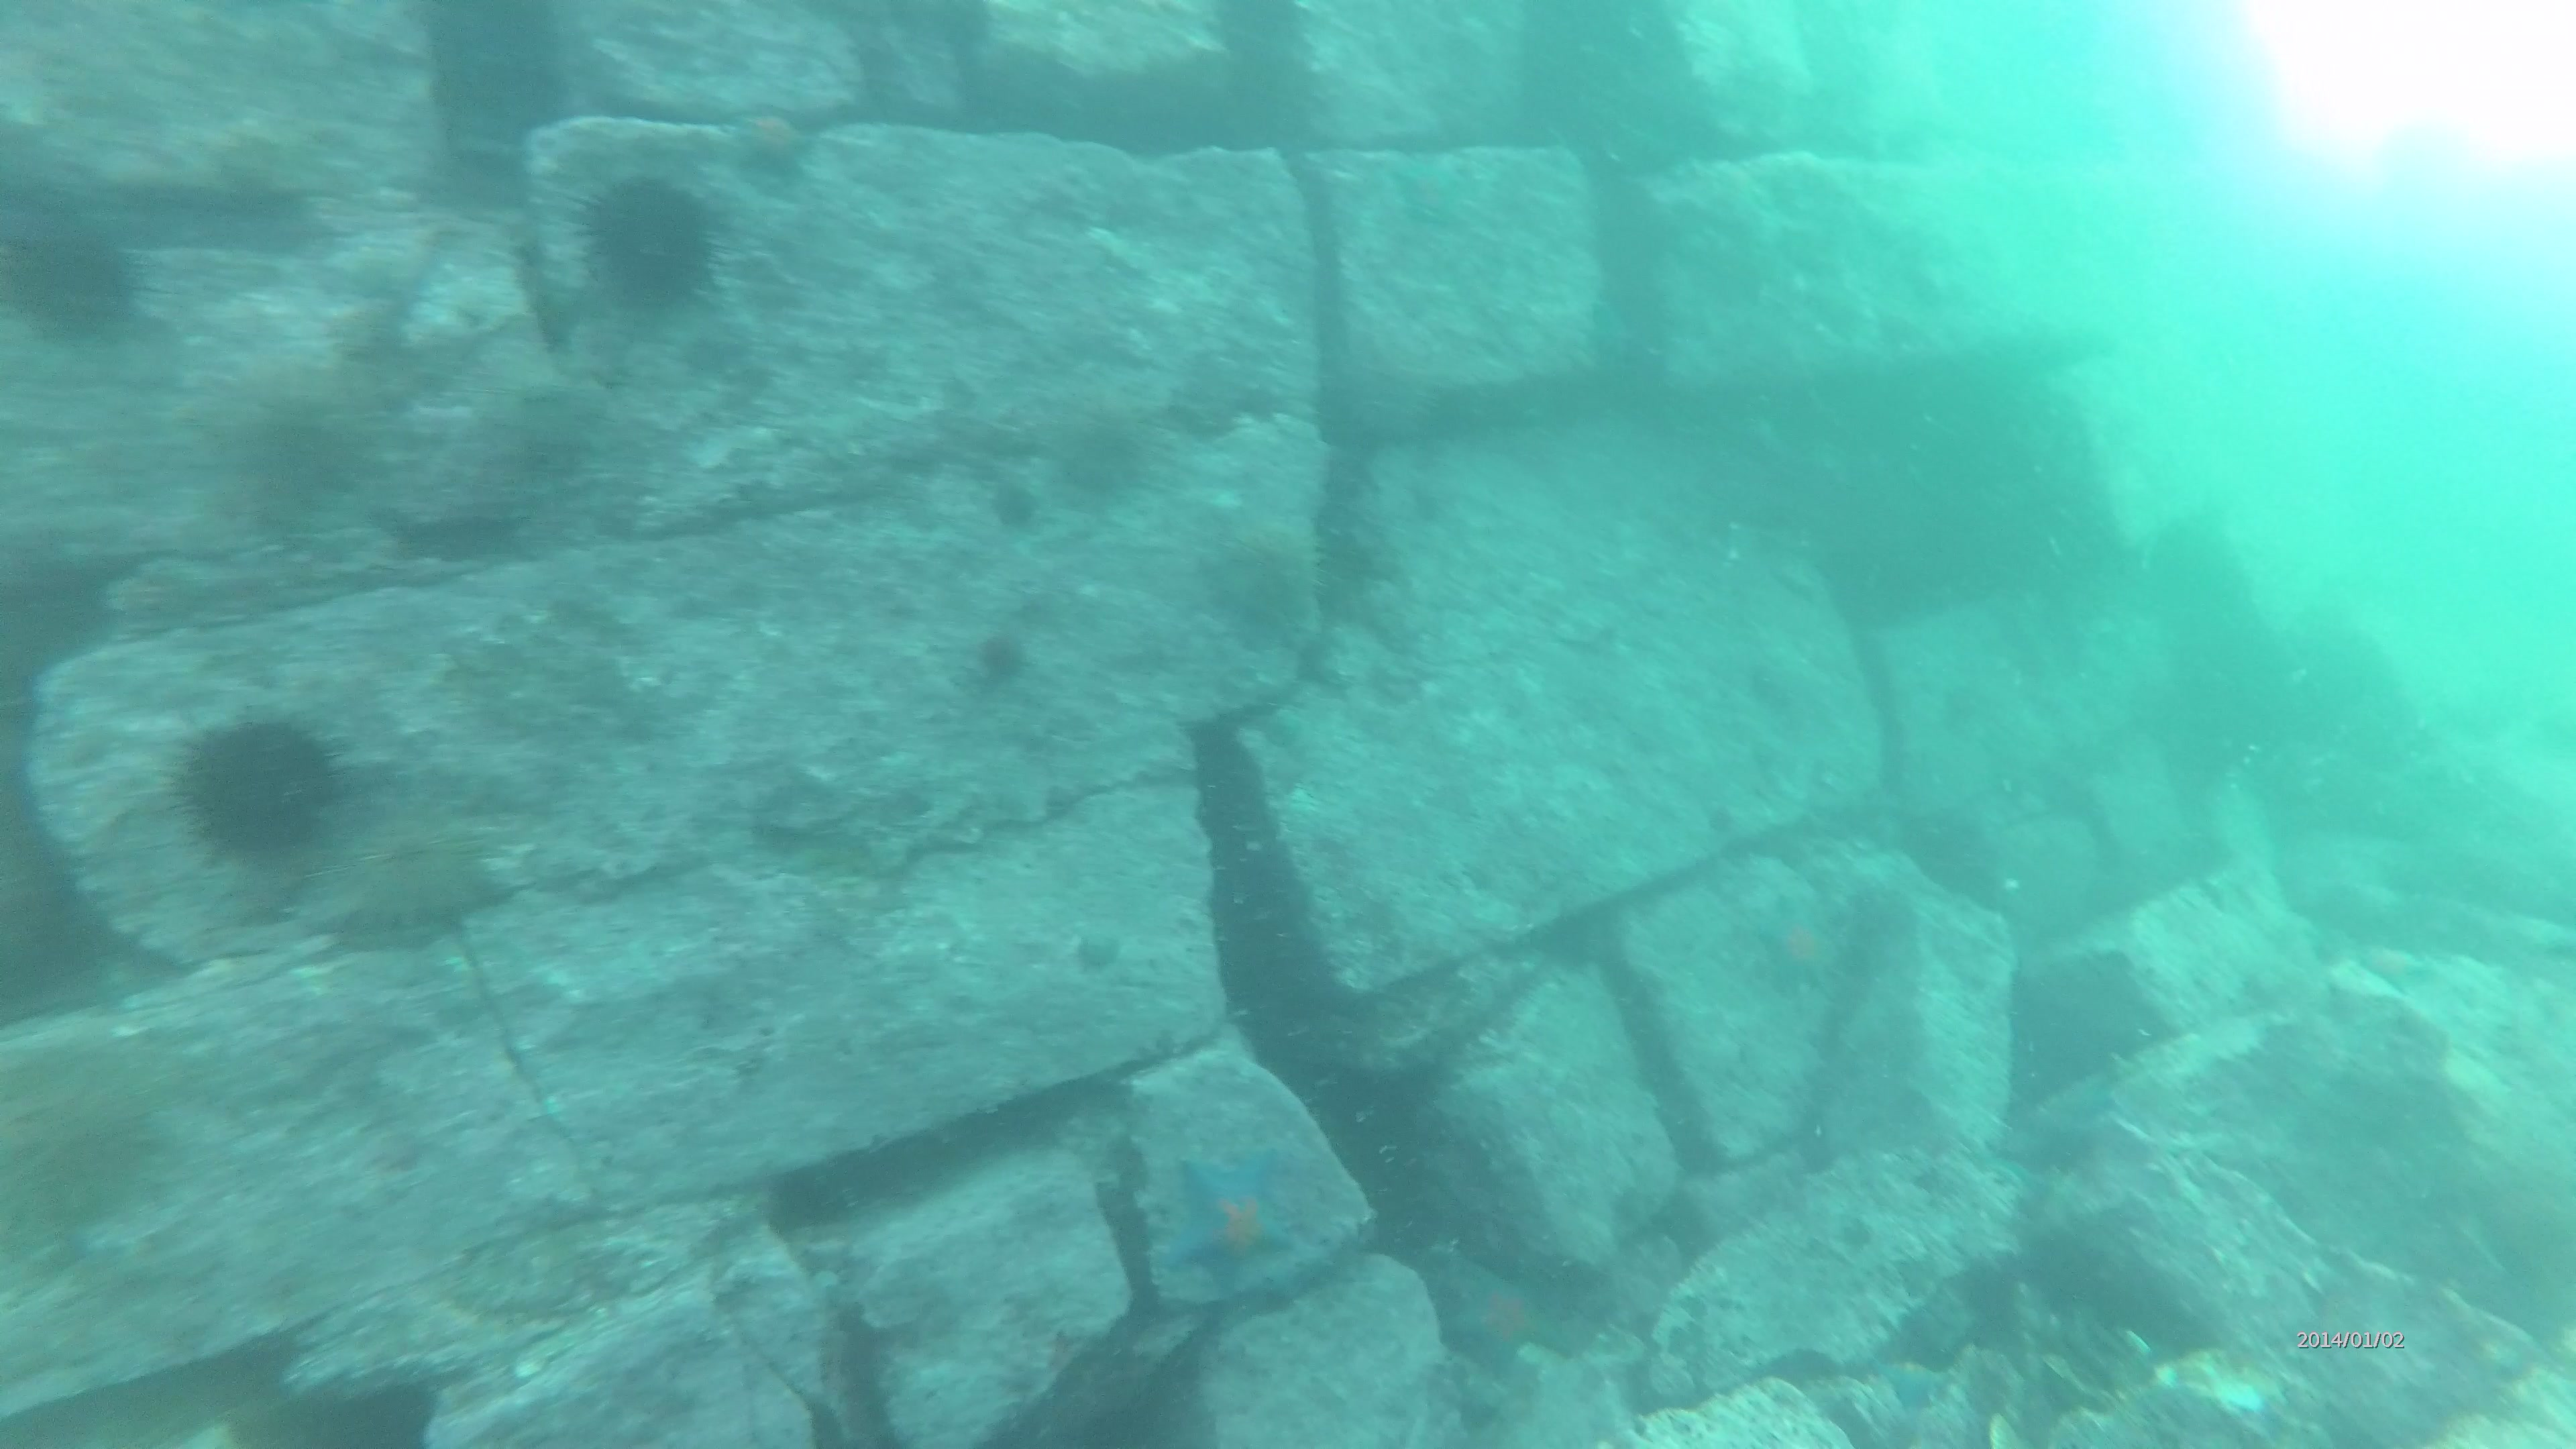echinus: (0, 1035, 168, 1240), (165, 722, 350, 863), (219, 354, 372, 520), (0, 196, 152, 347), (573, 175, 724, 311), (341, 803, 492, 925), (1210, 518, 1341, 635), (1069, 396, 1157, 494), (982, 626, 1031, 683)
starfish: (1166, 1146, 1297, 1295), (1430, 1242, 1571, 1373), (729, 99, 814, 184)
